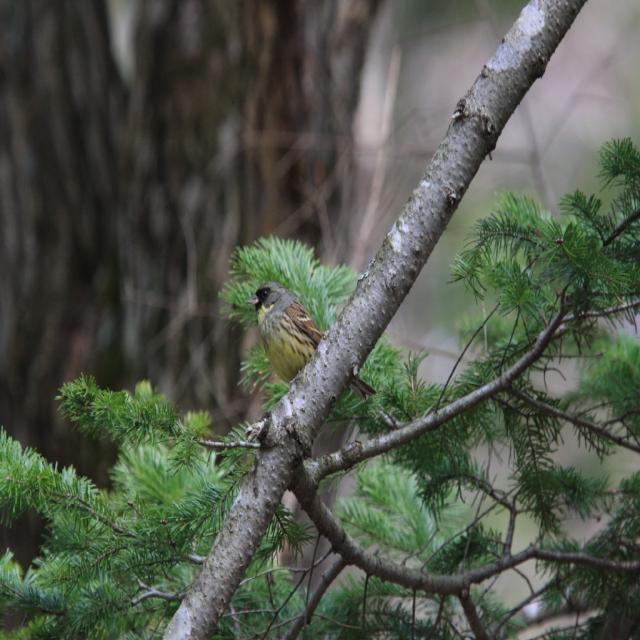bird: (244, 284, 367, 417)
